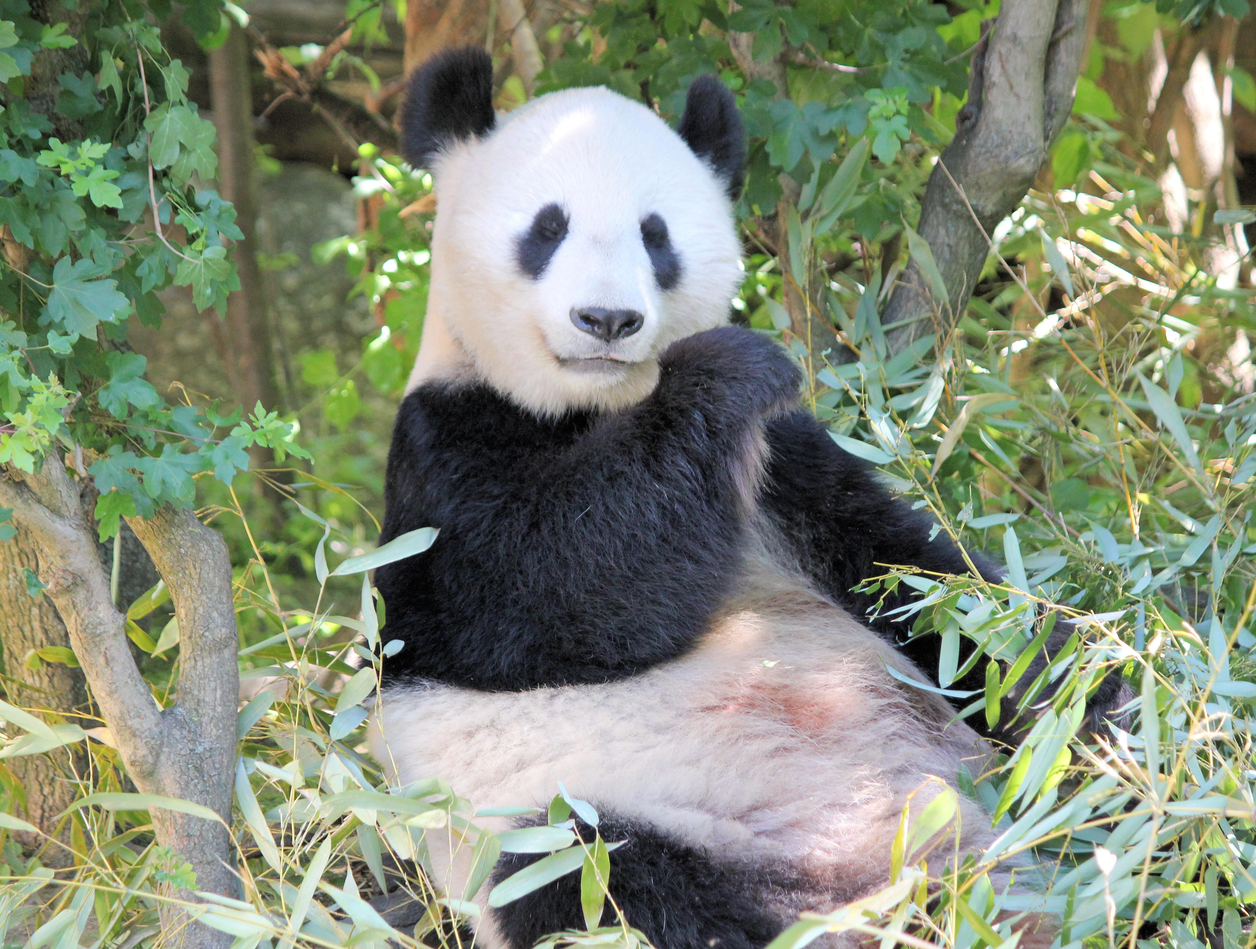panda: (359, 44, 1082, 949)
